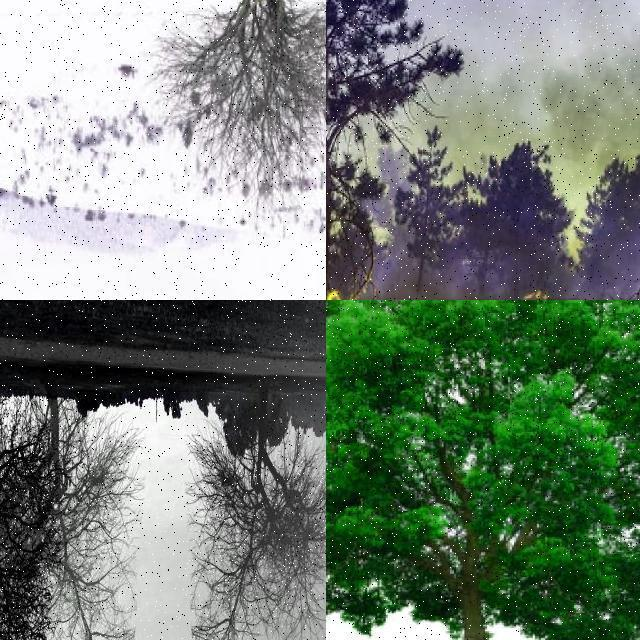tree: (326, 300, 640, 640), (326, 0, 494, 300), (187, 392, 326, 640), (150, 1, 326, 188), (25, 394, 138, 640), (460, 136, 568, 300), (0, 388, 62, 640), (389, 126, 466, 290)
